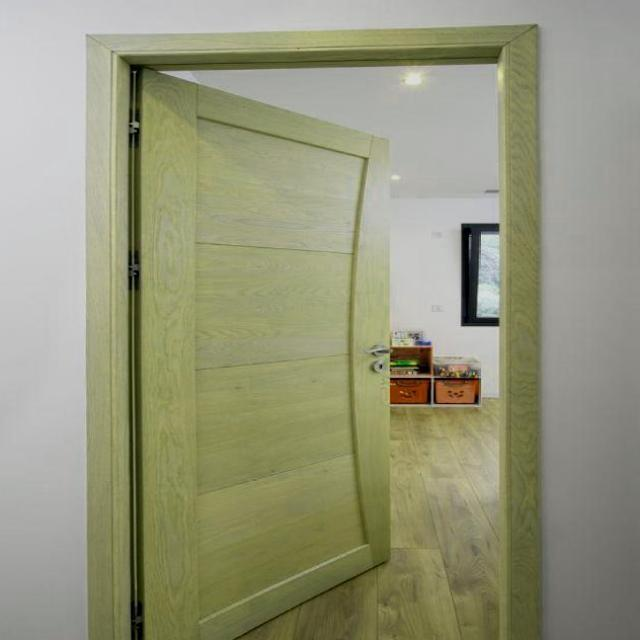door: (129, 65, 392, 638)
